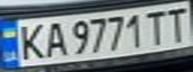1: (124, 11, 148, 48)
7: (106, 12, 127, 52), (87, 16, 109, 54)
9: (66, 17, 90, 56)
A: (39, 19, 69, 58)
K: (12, 20, 48, 61)
T: (160, 3, 193, 43), (142, 7, 172, 46)
